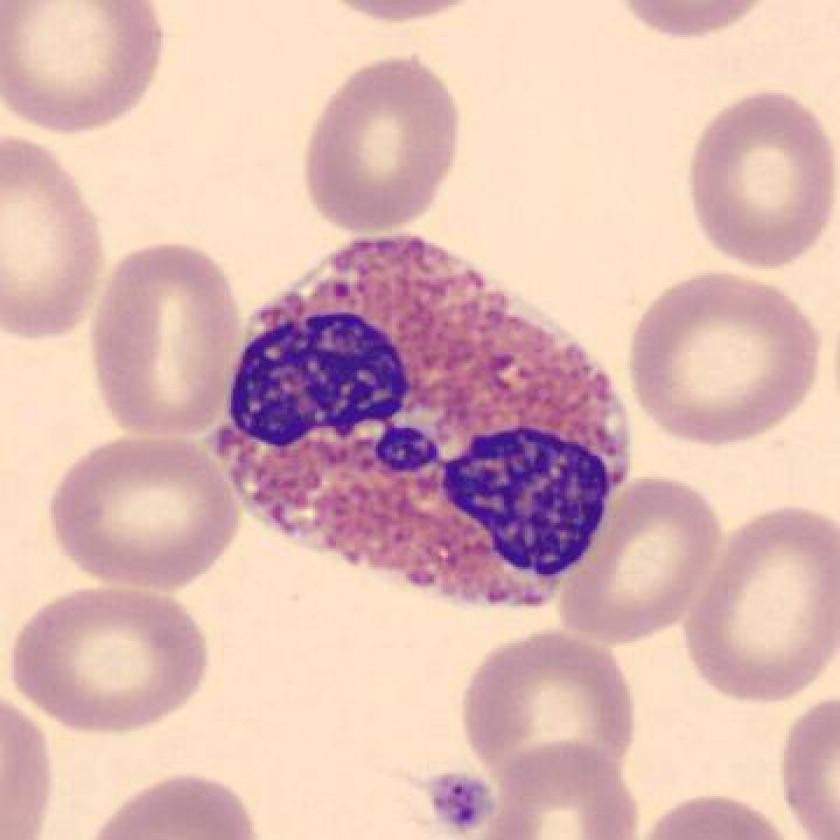eosinophil: (202, 221, 640, 621)
